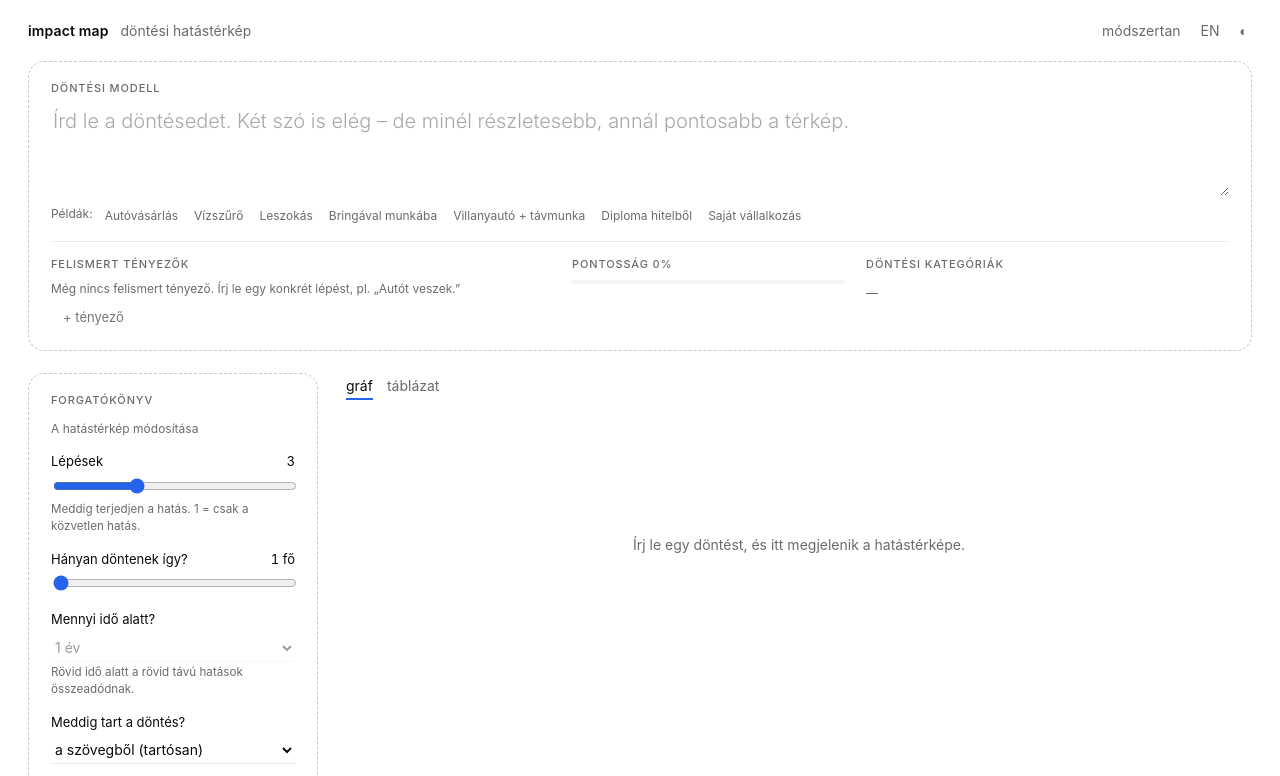
Test: App › reads the decision, shows factors, precision, categories and the graph
Replace the text in the text box named "Döntési modell" with "Hetente háromszor edzek az edzőteremben, mert túlsúlyos lettem egy sérülés miatt.". click: (640, 150)
box: 51,104 -> 1229,196
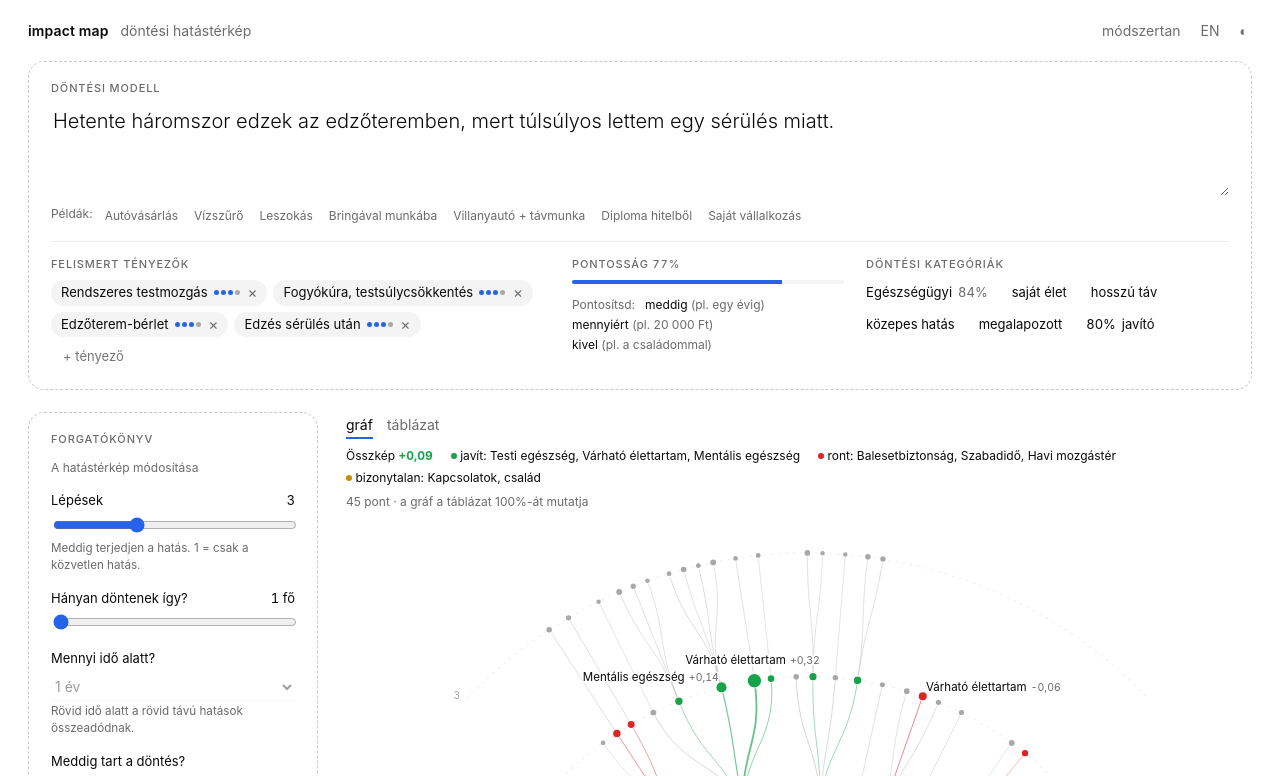
expect the text "Rendszeres testmozgás" is shown: met, box 61,283 -> 208,302
expect the text "Edzőterem-bérlet" is shown: met, box 61,314 -> 168,334
expect the text "Edzés sérülés után" is shown: met, box 244,314 -> 361,334
